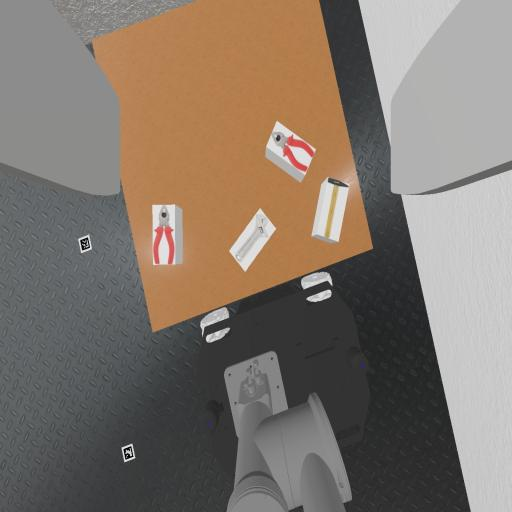hammer: (324, 178, 348, 238)
pliers: (272, 132, 315, 172), (153, 206, 174, 264)
wrench: (236, 215, 268, 261)
